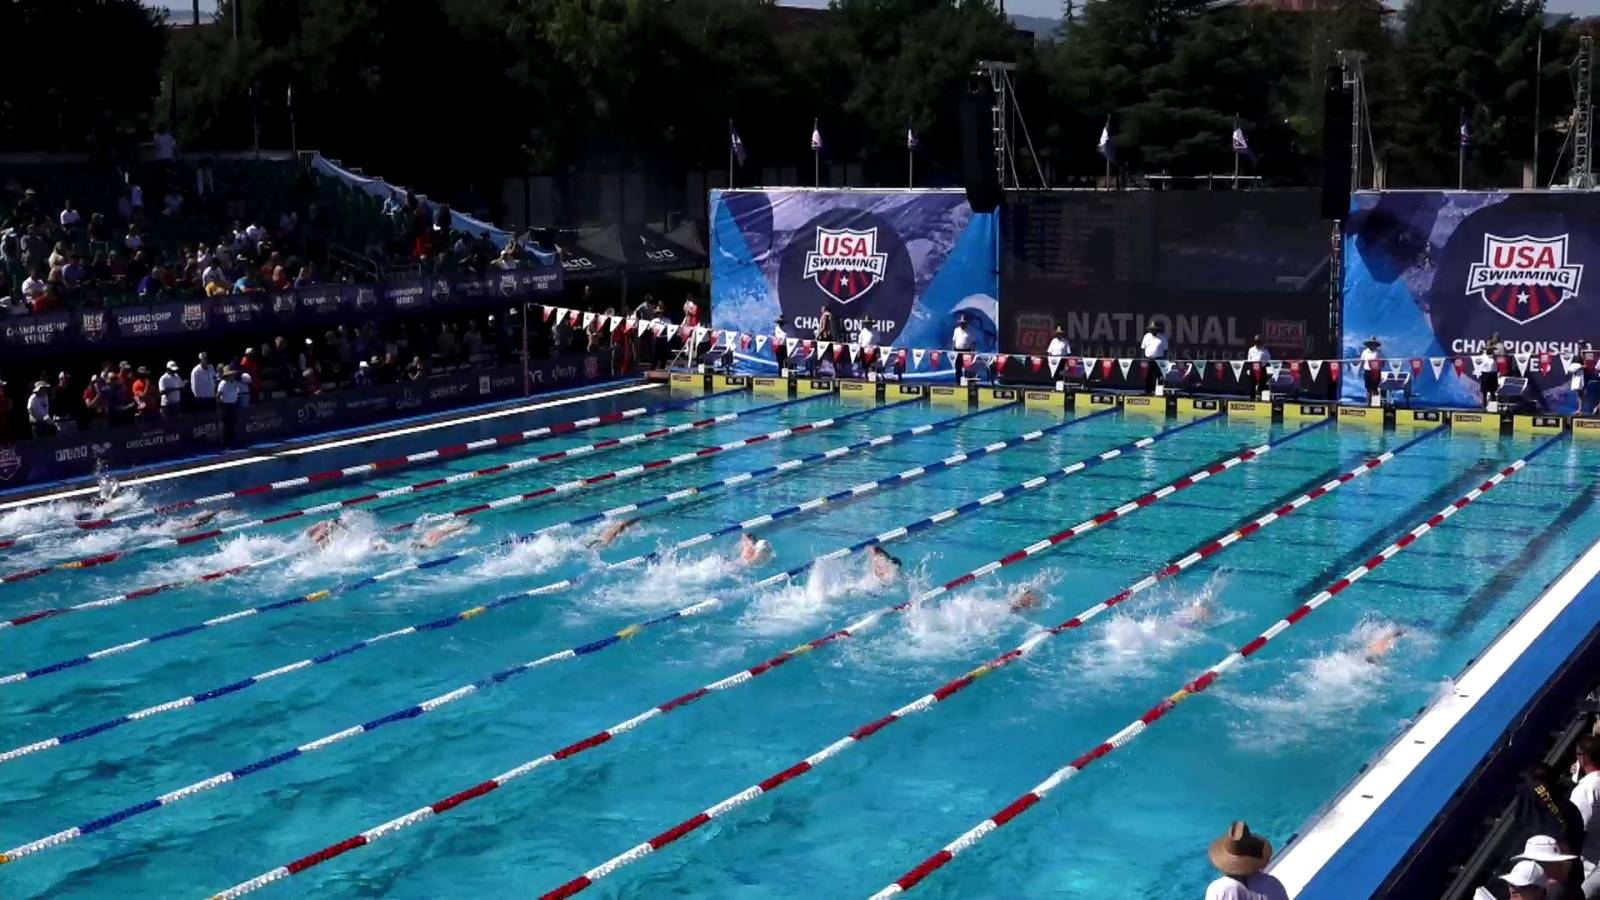swimmerw: (958, 585, 1042, 647), (1327, 627, 1416, 685), (689, 532, 773, 588), (825, 543, 905, 596), (1142, 597, 1215, 653), (562, 515, 651, 560), (390, 516, 474, 557), (284, 509, 349, 555), (157, 503, 235, 540), (47, 489, 123, 525)
